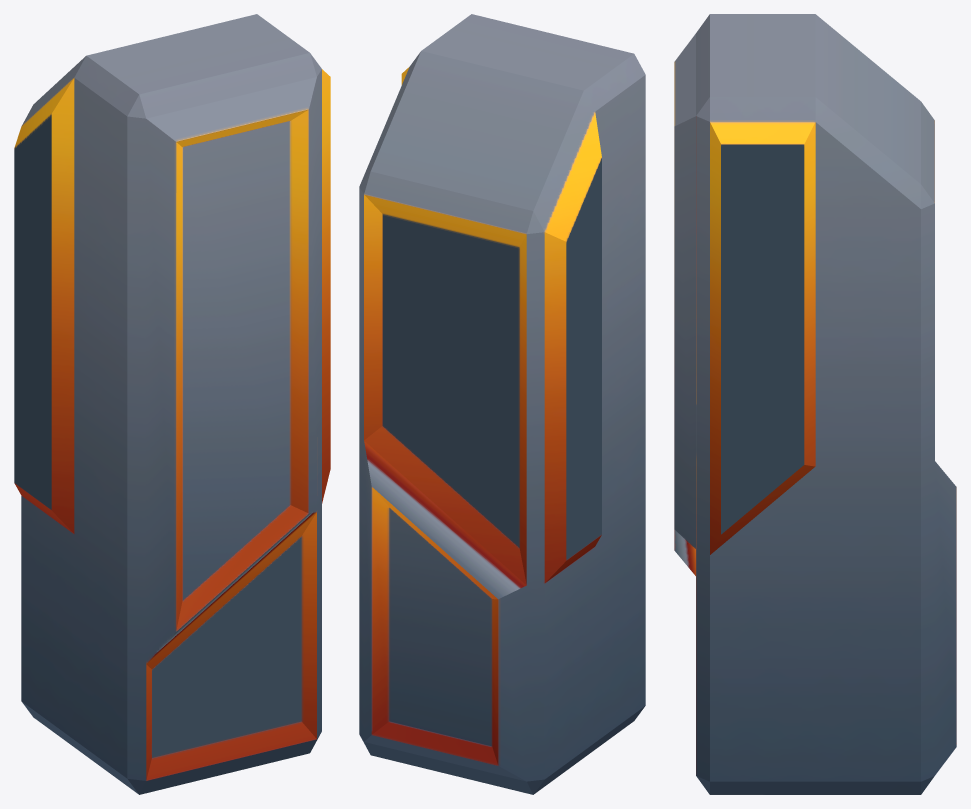
Rendered from SM_APP_Alien_blockI.glb.
3 renders of one model, left to right at view 1: azimuth 30°, elevation 25°; view 2: azimuth 150°, elevation 25°; view 3: azimuth 270°, elevation 25°, orthographic. The views are drawn at different scales.
Visible parts, largest first — view 1: SM_APP_Alien_blockI; view 2: SM_APP_Alien_blockI; view 3: SM_APP_Alien_blockI.
Boxes of the visible parts, left/top/right/bottom form: SM_APP_Alien_blockI: left=14, top=14, right=330, bottom=794; SM_APP_Alien_blockI: left=359, top=14, right=645, bottom=794; SM_APP_Alien_blockI: left=674, top=14, right=956, bottom=794.
Bounding box in the file's own units: 5.37 × 16.05 × 5.89.
1 material, 1 textured.
